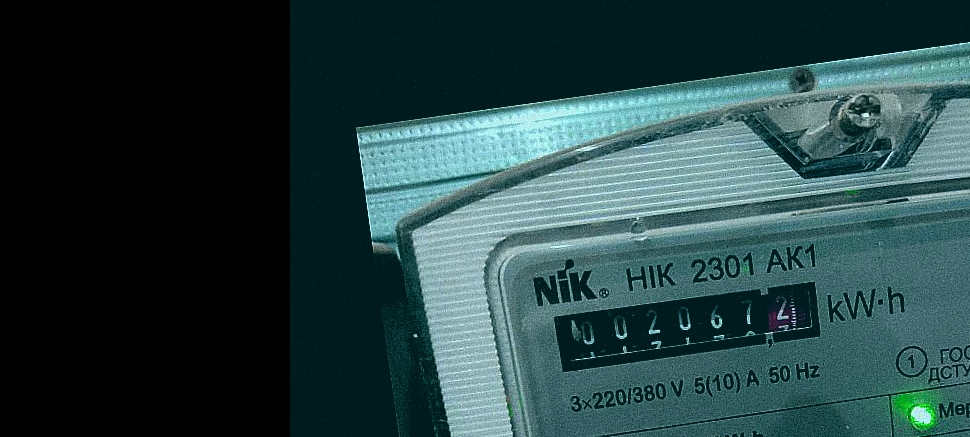0: (576, 317, 598, 348), (672, 301, 694, 331), (610, 310, 631, 341)
2: (771, 290, 793, 322), (643, 305, 663, 337)
6: (705, 300, 727, 331)
7: (738, 295, 758, 327)
screen: (538, 265, 839, 386)
